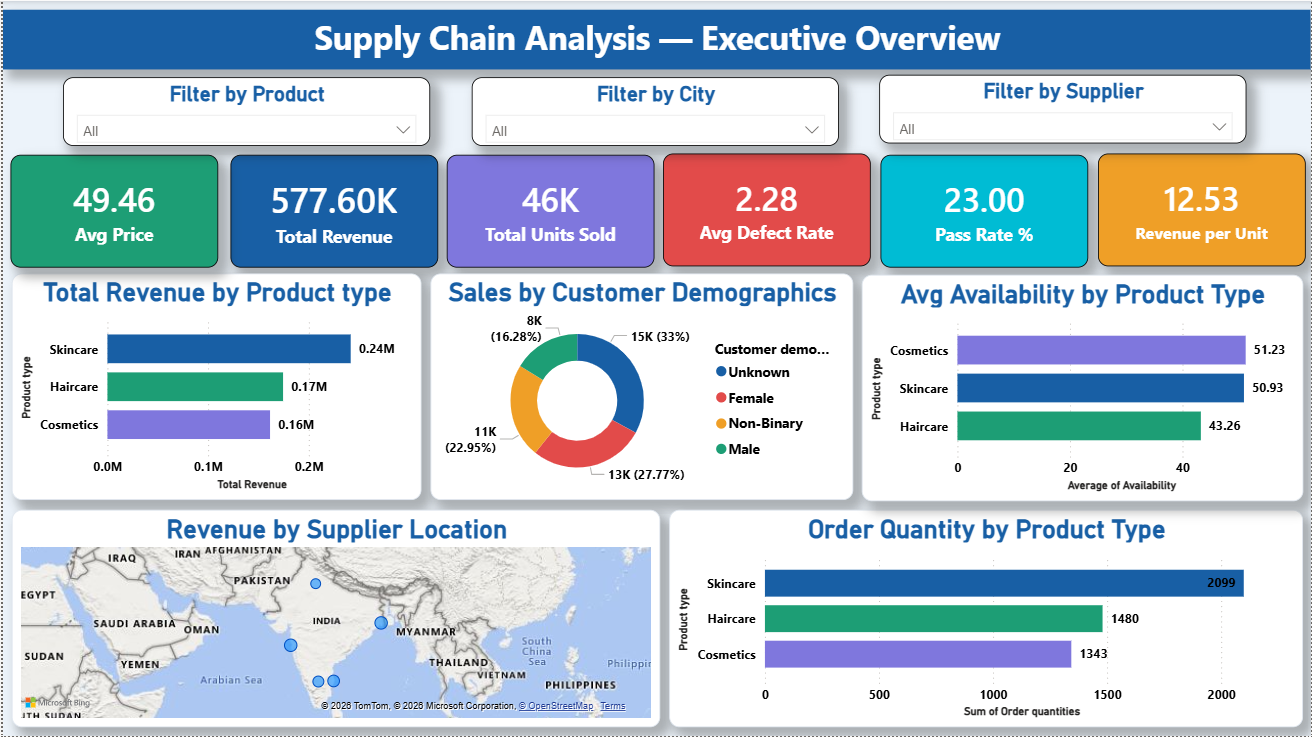

The page's visual inventory and layout, read from the dashboard file:
{"tool":"powerbi","page":{"name":"Executive Overview","canvas":[1280,720],"ordinal":0},"visuals":[{"type":"cardVisual","fields":{"Data":["SupplyChain.Total Revenue"]},"box":[222.7,150.2,203,110],"z":0},{"type":"cardVisual","fields":{"Data":["SupplyChain.Total Units Sold"]},"box":[434.5,150.2,203,110],"z":1000},{"type":"cardVisual","fields":{"Data":["SupplyChain.Avg Defect Rate"]},"box":[646.3,149.4,203,110],"z":2000},{"type":"cardVisual","fields":{"Data":["SupplyChain.Pass Rate %"]},"box":[858.9,150.7,203,110],"z":3000},{"type":"cardVisual","fields":{"Data":["SupplyChain.Revenue per Unit"]},"box":[1071.5,149.4,203,110],"z":4000},{"type":"clusteredBarChart","fields":{"Category":["SupplyChain.Product type"],"Y":["SupplyChain.Total Revenue"]},"box":[8.6,266.6,401.1,221.3],"z":5000},{"type":"donutChart","title":"Sales by Customer Demographics","fields":{"Category":["SupplyChain.Customer demographics"],"Y":["SupplyChain.Total Units Sold"]},"box":[418.2,266.6,413.3,221.3],"z":6000},{"type":"map","title":" Revenue by Supplier Location","fields":{"Category":["SupplyChain.Location"],"Size":["SupplyChain.Total Revenue"]},"box":[8.6,497.7,634.7,212.8],"z":7000},{"type":"cardVisual","fields":{"Data":["SupplierPerf.Avg Price"]},"box":[7.7,150.7,203,110],"z":8000},{"type":"clusteredBarChart","title":"Order Quantity by Product Type","fields":{"Category":["SupplyChain.Product type"],"Y":["Sum(SupplyChain.Order quantities)"]},"box":[651.8,497.7,620,212.8],"z":9000},{"type":"textbox","box":[0,8.6,1280.3,58.7],"z":10000},{"type":"slicer","title":"Filter by Product","fields":{"Values":["SupplyChain.Product type"]},"box":[58.5,74.8,359,67],"z":11000},{"type":"slicer","title":"Filter by City","fields":{"Values":["SupplyChain.Location"]},"box":[458.3,74.8,359,67],"z":12000},{"type":"slicer","title":"Filter by Supplier","fields":{"Values":["SupplyChain.Supplier name"]},"box":[857.6,72.4,359,67],"z":13000},{"type":"clusteredBarChart","title":"Avg Availability by Product Type","fields":{"Category":["SupplyChain.Product type"],"Y":["Avg(SupplyChain.Availability)"]},"box":[840.1,267.8,431.7,221.3],"z":14000}]}

Visuals, with their boxes in screenshot pixels (x1, y1, x2, y2), scaled from the page's 1280x720 canvas onto the 1312x737 screenshot:
cardVisual - SupplyChain.Total Revenue: [left=228, top=154, right=436, bottom=266]
cardVisual - SupplyChain.Total Units Sold: [left=445, top=154, right=653, bottom=266]
cardVisual - SupplyChain.Avg Defect Rate: [left=662, top=153, right=871, bottom=266]
cardVisual - SupplyChain.Pass Rate %: [left=880, top=154, right=1088, bottom=267]
cardVisual - SupplyChain.Revenue per Unit: [left=1098, top=153, right=1306, bottom=266]
clusteredBarChart - SupplyChain.Product type x SupplyChain.Total Revenue: [left=9, top=273, right=420, bottom=499]
"Sales by Customer Demographics" donutChart: [left=429, top=273, right=852, bottom=499]
" Revenue by Supplier Location" map: [left=9, top=509, right=659, bottom=727]
cardVisual - SupplierPerf.Avg Price: [left=8, top=154, right=216, bottom=267]
"Order Quantity by Product Type" clusteredBarChart: [left=668, top=509, right=1304, bottom=727]
textbox: [left=0, top=9, right=1311, bottom=69]
"Filter by Product" slicer: [left=60, top=77, right=428, bottom=145]
"Filter by City" slicer: [left=470, top=77, right=838, bottom=145]
"Filter by Supplier" slicer: [left=879, top=74, right=1247, bottom=143]
"Avg Availability by Product Type" clusteredBarChart: [left=861, top=274, right=1304, bottom=501]
